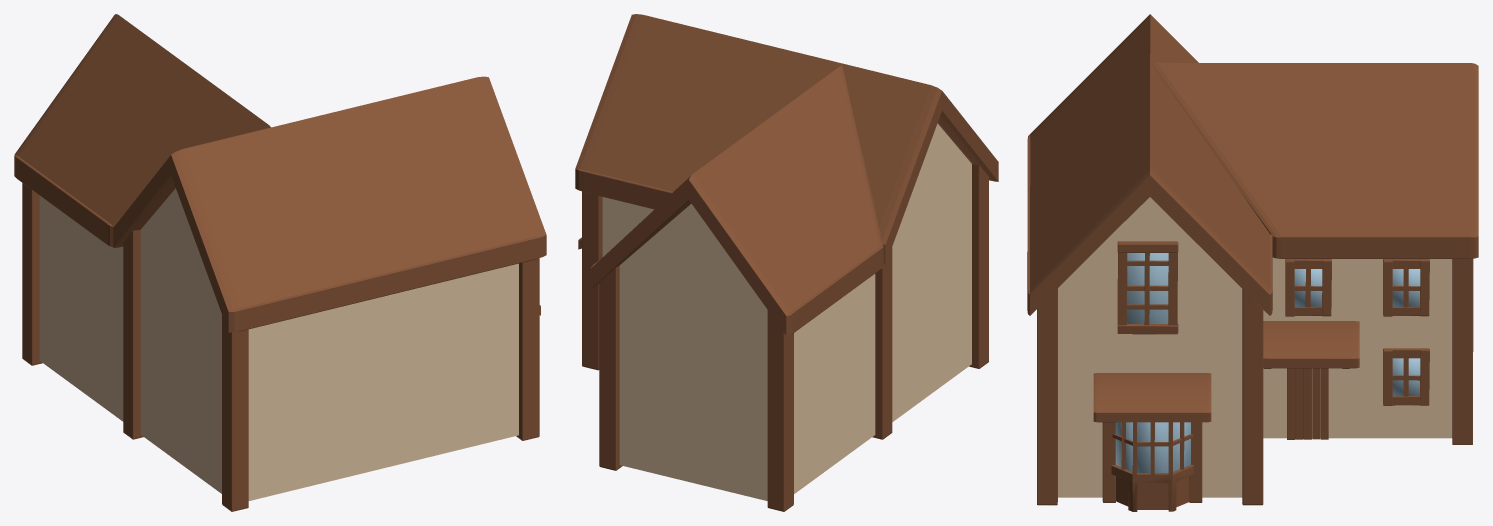
File: house5.fbx
3 views of the same model, side by side, from view 1: azimuth 30°, elevation 25°; view 2: azimuth 150°, elevation 25°; view 3: azimuth 270°, elevation 25° (orthographic). The views are drawn at different scales.
Visible parts, largest first — view 1: Cube.004, Cube.001, Cube.003, Cube, Cube.008, Cube.007, Cube.009, Cube.036; view 2: Cube, Cube.004, Cube.003, Cube.001, Cube.036, Cube.010, Cube.008, Cube.009, Cube.006; view 3: Cube.003, Cube.004, Cube.001, Cube, Cube.047, Cube.005, Cube.006, Cube.007, Cube.010, Plane.001, Cylinder, Cube.138 (+23 smaller).
Part boxes in pixels (bbox=[...]): Cube.004: bbox=[113, 76, 546, 332]; Cube.001: bbox=[140, 188, 518, 500]; Cube.003: bbox=[14, 14, 270, 246]; Cube: bbox=[39, 196, 123, 421]; Cube.008: bbox=[222, 315, 248, 511]; Cube.007: bbox=[516, 258, 539, 440]; Cube.009: bbox=[123, 230, 143, 439]; Cube.036: bbox=[22, 183, 42, 365]; Cube: bbox=[619, 204, 875, 500]; Cube.004: bbox=[575, 14, 998, 264]; Cube.003: bbox=[591, 66, 883, 335]; Cube.001: bbox=[602, 123, 971, 421]; Cube.036: bbox=[767, 310, 793, 511]; Cube.010: bbox=[599, 266, 622, 470]; Cube.008: bbox=[969, 164, 988, 368]; Cube.009: bbox=[872, 247, 892, 439]; Cube.006: bbox=[582, 191, 602, 370]; Cube.003: bbox=[1152, 62, 1478, 258]; Cube.004: bbox=[1027, 14, 1272, 315]; Cube.001: bbox=[1058, 197, 1242, 497]; Cube: bbox=[1263, 257, 1452, 438]; Cube.047: bbox=[1093, 373, 1211, 422]; Cube.005: bbox=[1263, 321, 1359, 368]; Cube.006: bbox=[1242, 289, 1263, 505]; Cube.007: bbox=[1037, 288, 1057, 505]; Cube.010: bbox=[1452, 258, 1472, 444]; Plane.001: bbox=[1127, 253, 1168, 323]; Cylinder: bbox=[1116, 422, 1189, 509]; Cube.138: bbox=[1111, 465, 1193, 511].
Size of the model in its own units: 4006 by 3580 by 4369.
